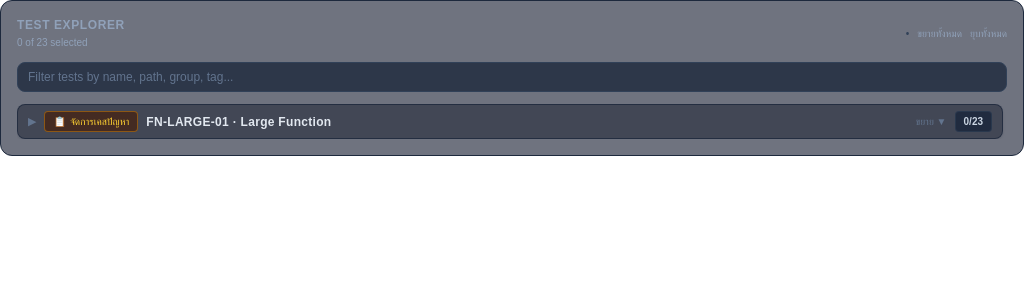
Scenario: TestExplorer Component › supports searching tests beyond the initial 10-item page limit
Note: Search for test #12 (which was on page 2)
In the field with placeholder "Filter tests by name, path, group, tag...": (512, 77) [17,62,1007,92], type "Ready Test Case 12"
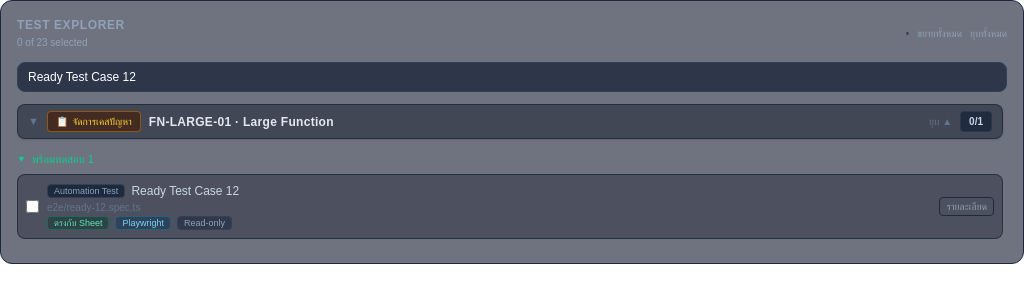
expect the text "Ready Test Case 12" is shown: met, box [131,182,239,198]
Note: Search for Low confidence test #11
Replace the text in the field with placeholder "Filter tests by name, path, group, tag..." with "Low Confidence Test 11": (512, 77) [17,62,1007,92]
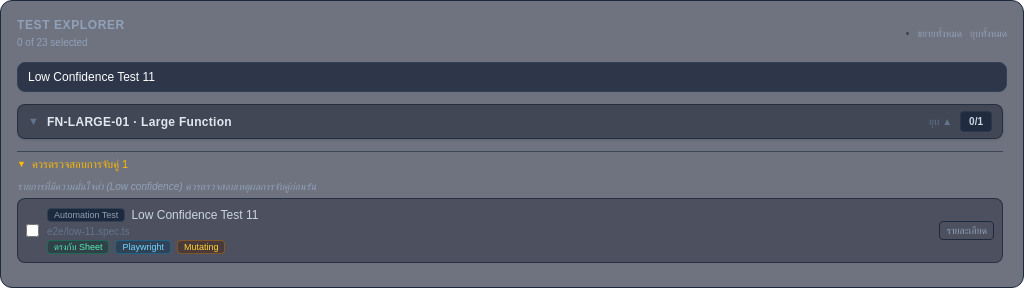
expect the text "Low Confidence Test 11" is shown: met, box [131,206,258,222]
